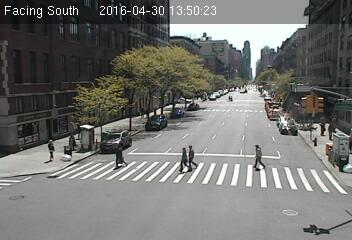neg: (96, 186, 121, 220), (280, 198, 301, 227), (118, 78, 139, 106), (162, 78, 182, 103), (256, 36, 275, 62), (243, 99, 262, 124), (287, 76, 306, 101), (216, 73, 234, 97), (23, 54, 41, 78), (72, 85, 90, 109), (152, 198, 169, 220), (45, 188, 60, 209), (314, 211, 328, 230)
pos: (247, 142, 271, 173), (42, 134, 64, 164), (171, 145, 192, 173), (111, 142, 132, 169), (184, 143, 204, 169), (313, 115, 330, 137), (66, 129, 81, 150), (324, 120, 339, 141)
